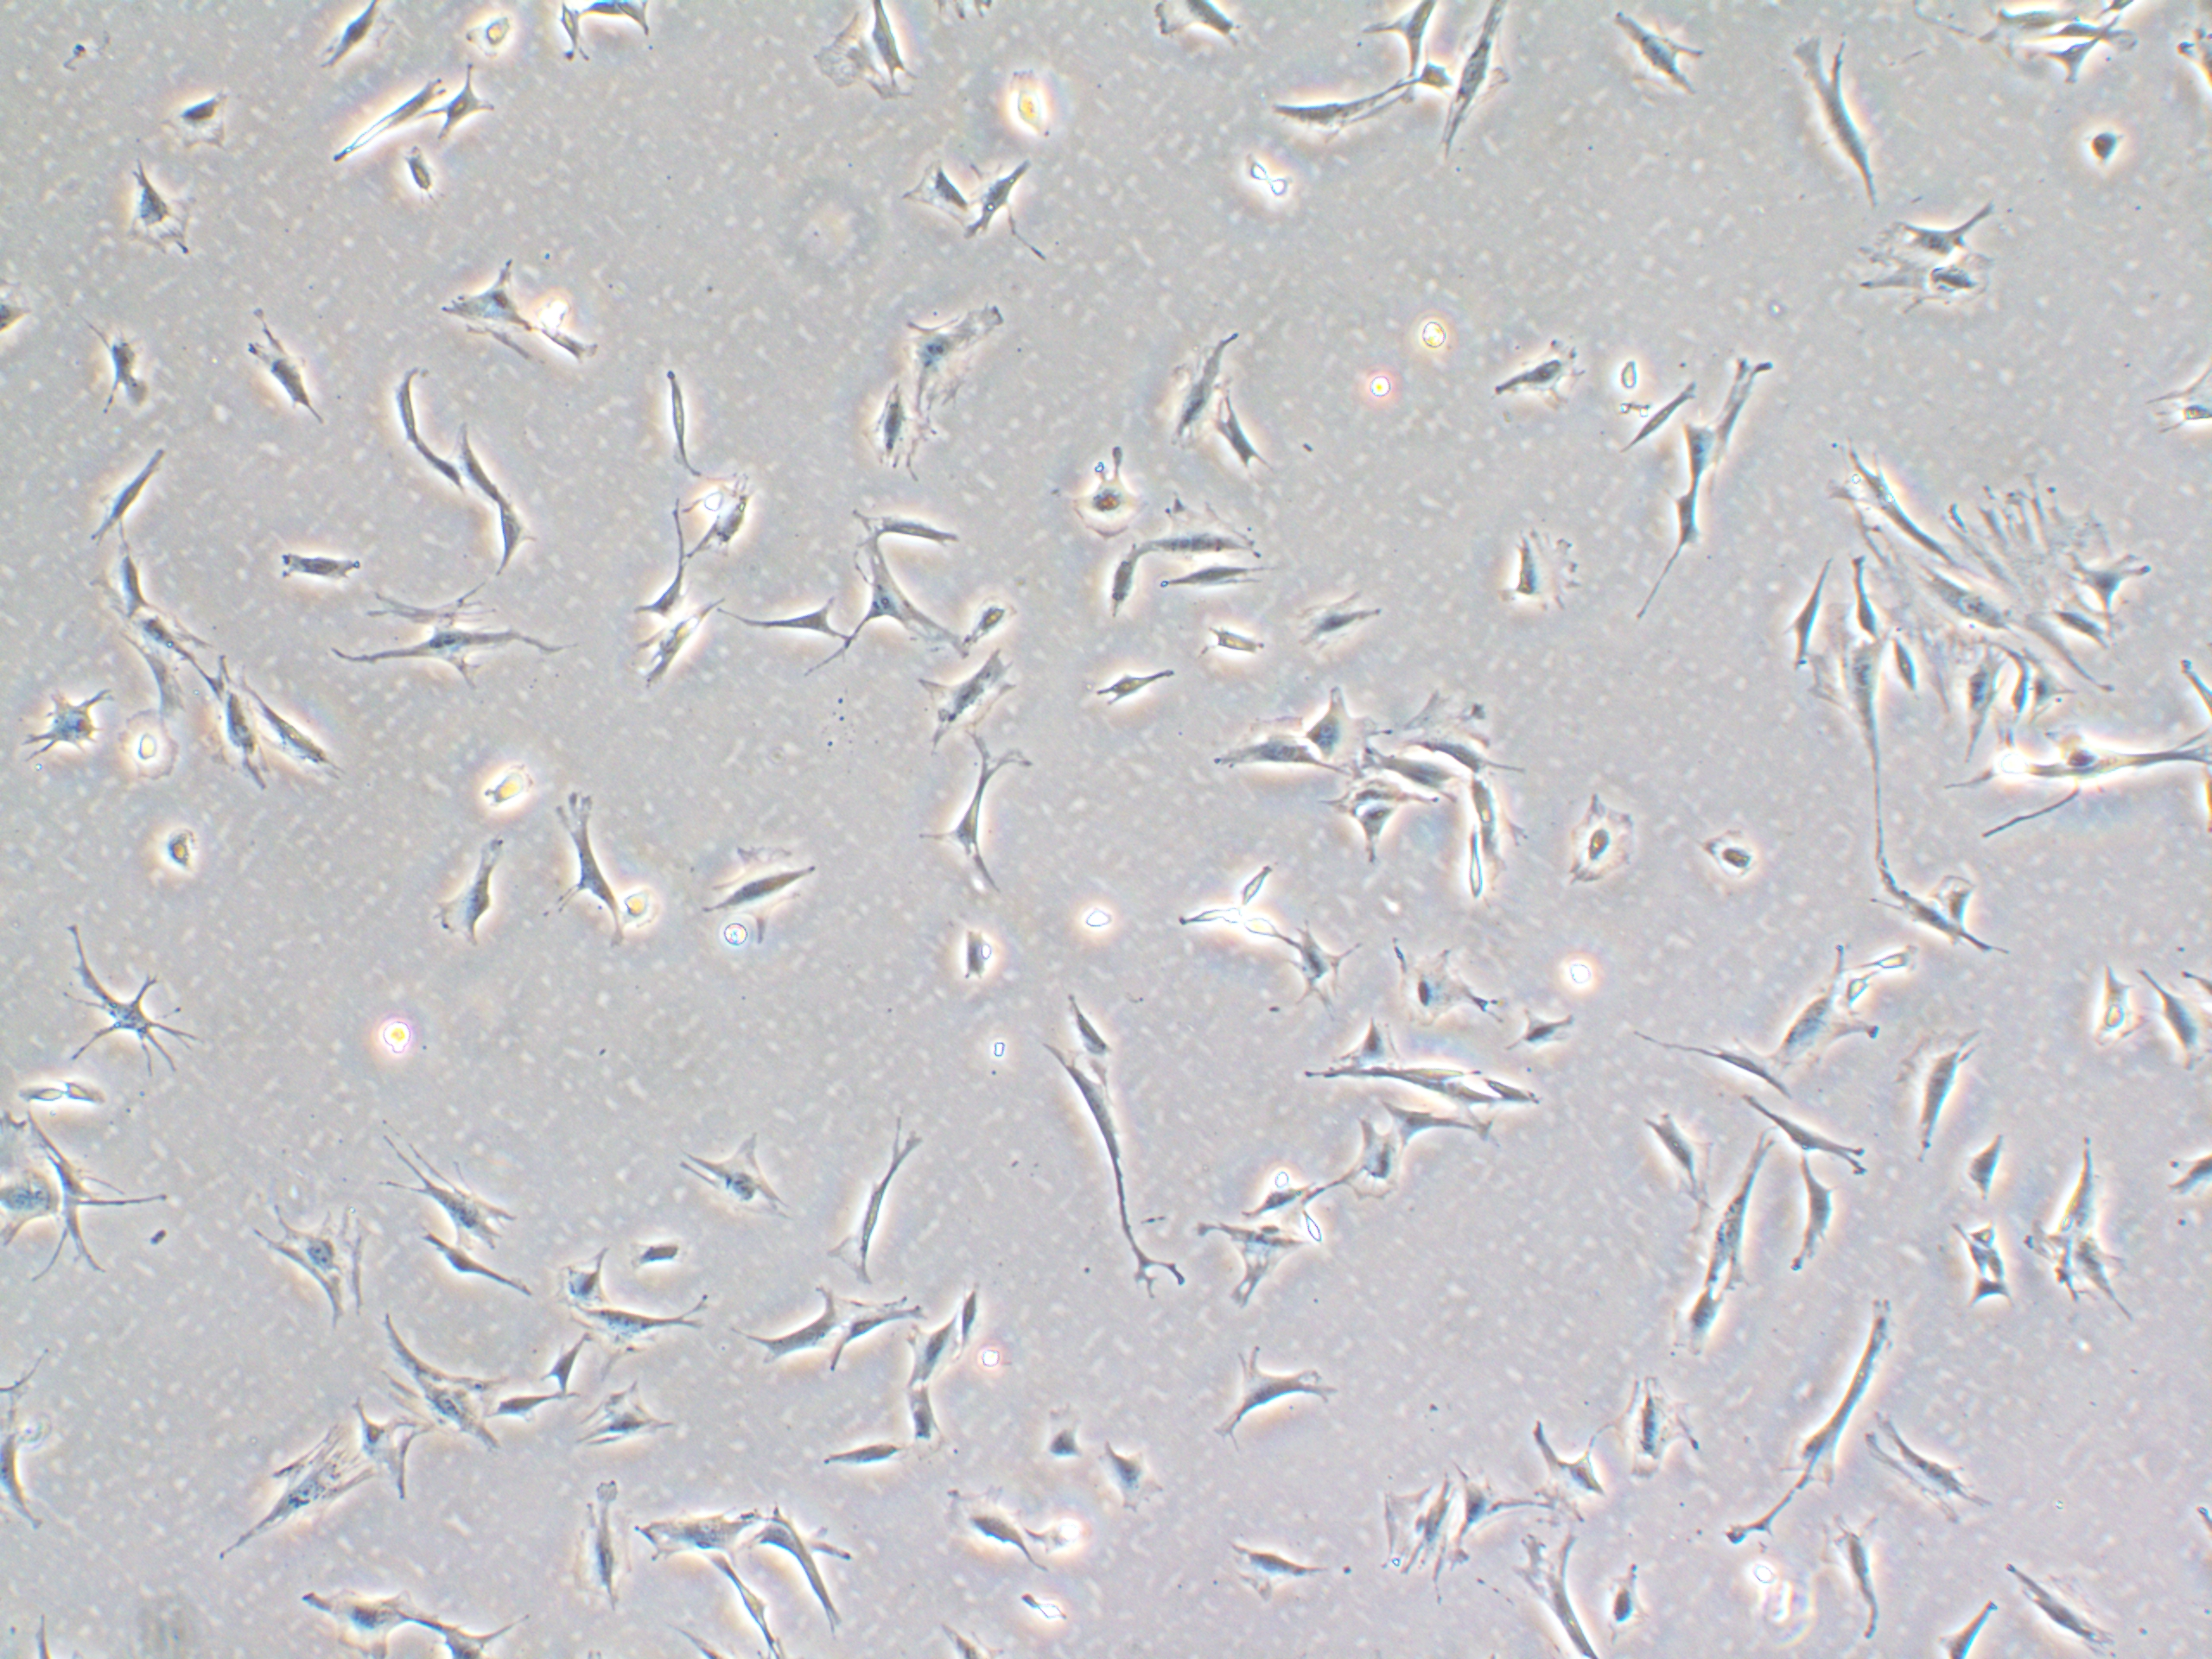Etc: (1224, 847, 1289, 913), (993, 1593, 1099, 1631), (1167, 892, 1249, 936)
polygonal: (1740, 1283, 1909, 1528), (1035, 1035, 1170, 1305), (1183, 1312, 1341, 1460), (815, 1093, 935, 1279), (211, 1417, 373, 1542), (371, 1317, 517, 1455), (324, 612, 563, 695), (1843, 1410, 1994, 1534), (232, 284, 341, 451), (1808, 23, 1898, 220), (733, 1485, 846, 1642), (695, 829, 834, 957), (1033, 408, 1158, 547), (1421, 0, 1521, 174), (239, 673, 368, 805), (1817, 444, 1959, 563), (1587, 0, 1742, 108), (1994, 1542, 2141, 1656), (1190, 713, 1345, 819), (315, 52, 449, 173), (1857, 875, 2019, 971), (423, 232, 535, 369), (235, 1216, 374, 1324), (921, 742, 1024, 889), (554, 1473, 655, 1621), (902, 640, 1038, 749), (843, 347, 949, 486), (1688, 1134, 1775, 1303), (1630, 472, 1710, 655), (1188, 1195, 1312, 1314), (1726, 1096, 1881, 1190), (543, 779, 627, 953), (1371, 922, 1491, 1040), (66, 439, 192, 552), (1264, 61, 1425, 148), (921, 1478, 1050, 1586), (1885, 1019, 1977, 1169), (1468, 507, 1587, 624), (1496, 1528, 1601, 1659), (186, 652, 277, 802), (1778, 957, 1874, 1098), (1803, 1511, 1902, 1647), (639, 594, 730, 737), (853, 547, 965, 662), (679, 1122, 801, 1225), (385, 1134, 507, 1237), (742, 1283, 874, 1377), (1611, 1366, 1709, 1493), (334, 1389, 442, 1497), (1630, 1114, 1742, 1218), (1515, 1419, 1632, 1518), (948, 148, 1050, 260), (425, 823, 516, 948), (808, 1293, 928, 1387), (415, 1234, 547, 1319), (1881, 192, 2036, 263), (1480, 322, 1588, 423), (564, 1295, 733, 1359), (1629, 1035, 1801, 1098), (2132, 957, 2212, 1091), (1771, 544, 1844, 690), (1211, 1525, 1353, 1600), (1165, 317, 1240, 460), (2050, 1234, 2146, 1345), (1611, 354, 1705, 464), (1151, 495, 1294, 566), (1336, 1100, 1420, 1220), (1709, 340, 1784, 474), (284, 1582, 415, 1659), (1325, 775, 1413, 890), (77, 307, 169, 415), (705, 1549, 796, 1659), (683, 453, 768, 568), (1451, 1457, 1562, 1544), (791, 1415, 914, 1493), (629, 1499, 775, 1565), (253, 537, 385, 610), (1280, 575, 1400, 655), (617, 495, 688, 629), (117, 603, 214, 701), (1298, 678, 1386, 784), (110, 143, 190, 260), (714, 589, 866, 650), (432, 418, 533, 509), (568, 1385, 690, 1460), (1040, 988, 1144, 1073), (1277, 927, 1378, 1014), (1585, 1546, 1670, 1649), (1075, 647, 1183, 727), (657, 336, 709, 502), (1952, 1105, 2047, 1192), (1359, 741, 1479, 809), (80, 537, 167, 629), (430, 66, 514, 162), (1785, 1157, 1848, 1284), (157, 63, 244, 153), (887, 157, 974, 246), (301, 0, 387, 91), (1087, 1441, 1179, 1525), (1662, 1267, 1737, 1364), (838, 500, 982, 551), (1407, 723, 1519, 788), (1381, 1100, 1475, 1175), (1932, 845, 2003, 943), (486, 502, 563, 591), (1153, 561, 1282, 613), (526, 293, 599, 382), (1211, 394, 1278, 486), (1456, 781, 1515, 885), (892, 1382, 961, 1467), (2047, 1141, 2109, 1236), (1087, 545, 1167, 619), (1240, 1164, 1331, 1229), (549, 1249, 632, 1319), (477, 1380, 578, 1438), (380, 436, 472, 498), (1930, 1584, 2006, 1659), (620, 1216, 700, 1288), (1956, 638, 1998, 769), (1376, 0, 1440, 84), (906, 1312, 961, 1408), (1869, 622, 1925, 716), (939, 584, 1024, 645), (1512, 993, 1578, 1072), (374, 359, 434, 439), (1843, 545, 1886, 653), (932, 911, 991, 990), (542, 1330, 599, 1410), (2069, 118, 2135, 186), (1031, 1403, 1092, 1474), (1327, 1012, 1402, 1070), (2026, 645, 2073, 735), (953, 1269, 995, 1368), (1676, 416, 1728, 493), (1480, 1068, 1564, 1108), (1963, 1284, 2027, 1328)
small-round: (141, 809, 240, 897), (462, 741, 538, 831), (106, 706, 185, 793), (1702, 810, 1780, 892), (996, 68, 1061, 148), (1069, 890, 1144, 953), (455, 10, 528, 68), (618, 885, 671, 953), (1264, 159, 1317, 223), (59, 1079, 129, 1121), (1216, 141, 1271, 186), (7, 1080, 68, 1114)
spread: (1874, 491, 2118, 669), (897, 288, 1021, 404), (1364, 1481, 1467, 1588), (1557, 791, 1642, 885)
